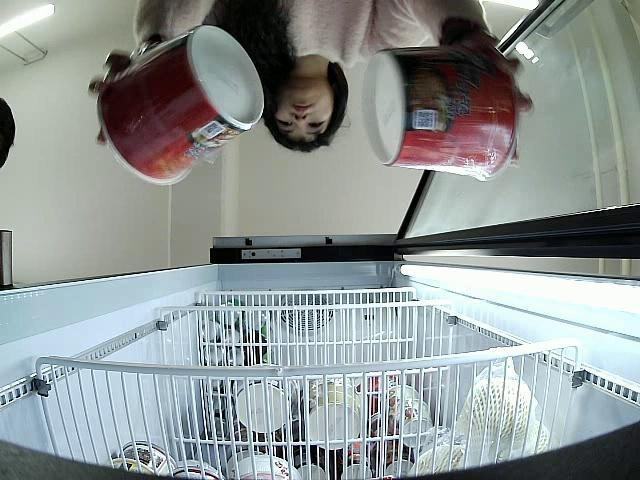01_ShinRamen_L: (98, 24, 264, 188), (362, 38, 518, 180)
